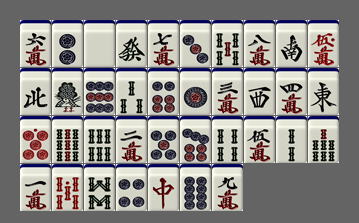0m: (308, 20, 339, 67)
0p: (20, 116, 51, 163)
0s: (52, 164, 83, 211)
1m: (20, 164, 51, 211)
1p: (180, 68, 211, 115)
1s: (52, 68, 83, 115)
1z: (308, 68, 339, 115)
2m: (116, 116, 147, 163)
2p: (52, 20, 83, 67)
2s: (276, 116, 307, 163)
2z: (276, 20, 307, 67)
3m: (212, 68, 243, 115)
3p: (180, 20, 211, 67)
3s: (116, 68, 147, 115)
3z: (244, 68, 275, 115)
4m: (276, 68, 307, 115)
4p: (116, 164, 147, 211)
4s: (212, 116, 243, 163)
4z: (20, 68, 51, 115)
5m: (244, 116, 275, 163)
5p: (148, 116, 179, 163)
5s: (212, 20, 243, 67)
5z: (84, 20, 115, 67)
6m: (20, 20, 51, 67)
6p: (148, 68, 179, 115)
6s: (84, 116, 115, 163)
6z: (116, 20, 147, 67)
7m: (148, 20, 179, 67)
7p: (180, 116, 211, 163)
7s: (308, 116, 339, 163)
7z: (148, 164, 179, 211)
8m: (244, 20, 275, 67)
8p: (180, 164, 211, 211)
8s: (84, 164, 115, 211)
9m: (212, 164, 243, 211)
9p: (84, 68, 115, 115)
9s: (52, 116, 83, 163)
